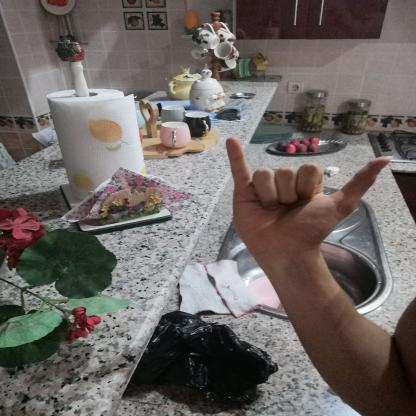YA: (212, 129, 403, 264)
